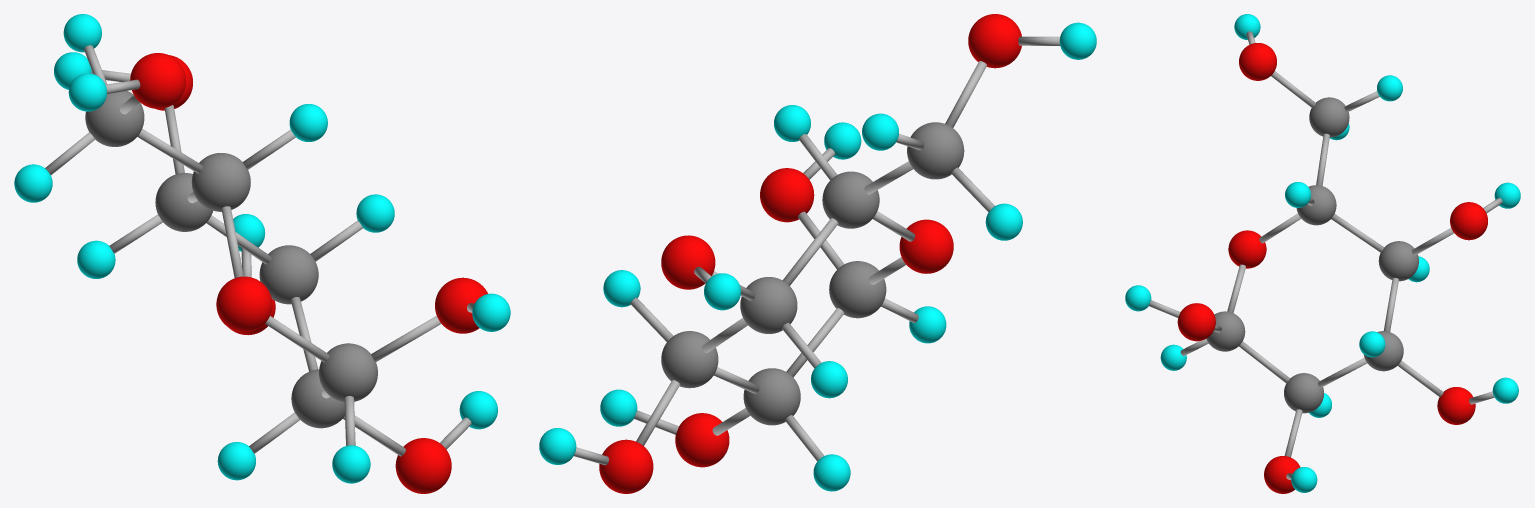
File: α-D-glucose.glb
3 views of the same model, side by side, from view 1: azimuth 30°, elevation 25°; view 2: azimuth 150°, elevation 25°; view 3: azimuth 270°, elevation 25° (orthographic). The views are drawn at different scales.
Parts seen in each view (by area): view 1: CMAtom_0; view 2: CMAtom_0; view 3: CMAtom_0.
Boxes of the visible parts, x1,y1,x2,y2 form: CMAtom_0: (14,14,510,493); CMAtom_0: (539,14,1096,493); CMAtom_0: (1125,14,1520,493).
Size of the model in its own units: 0.5611 by 0.6027 by 0.6058.
